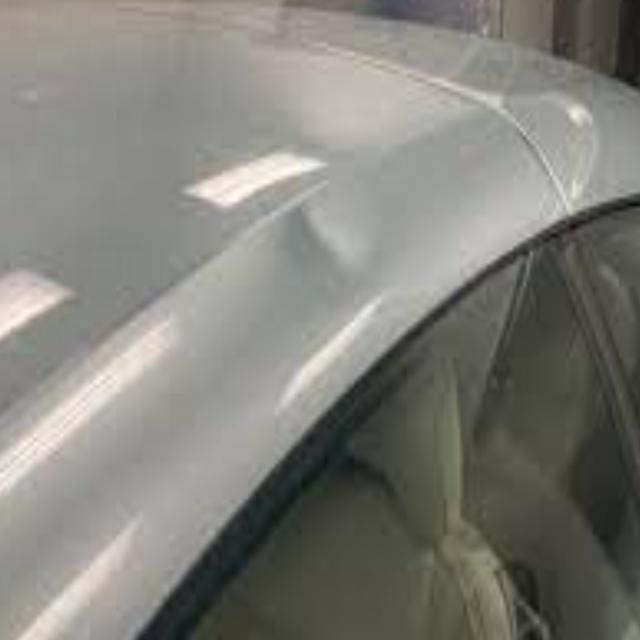dents: (273, 174, 390, 333)
